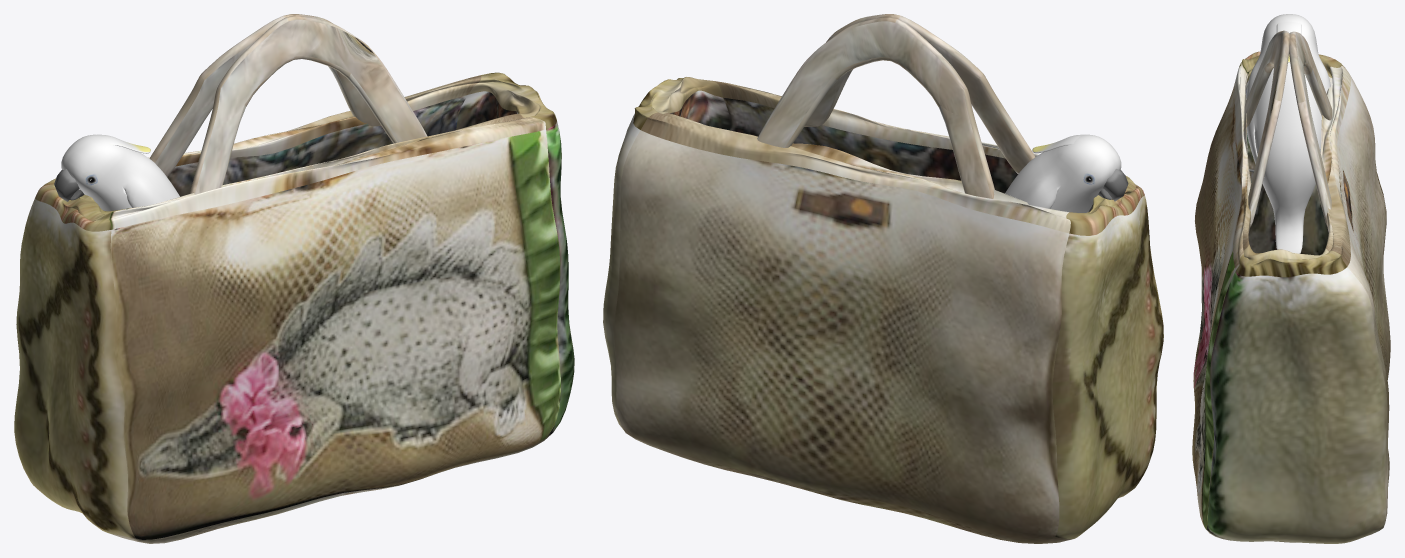
File: 2017nenga.obj
3 renders of one model, left to right at view 1: azimuth 30°, elevation 25°; view 2: azimuth 150°, elevation 25°; view 3: azimuth 270°, elevation 25°, orthographic. The views are drawn at different scales.
Parts seen in each view (by area): view 1: default; view 2: default; view 3: default.
Part boxes in pixels (<box>): default: <box>14,14,574,543</box>; default: <box>603,14,1163,543</box>; default: <box>1192,14,1390,543</box>.
Bounding box in the file's own units: 4.17 × 3.79 × 1.61.
6 materials, 6 textured.
